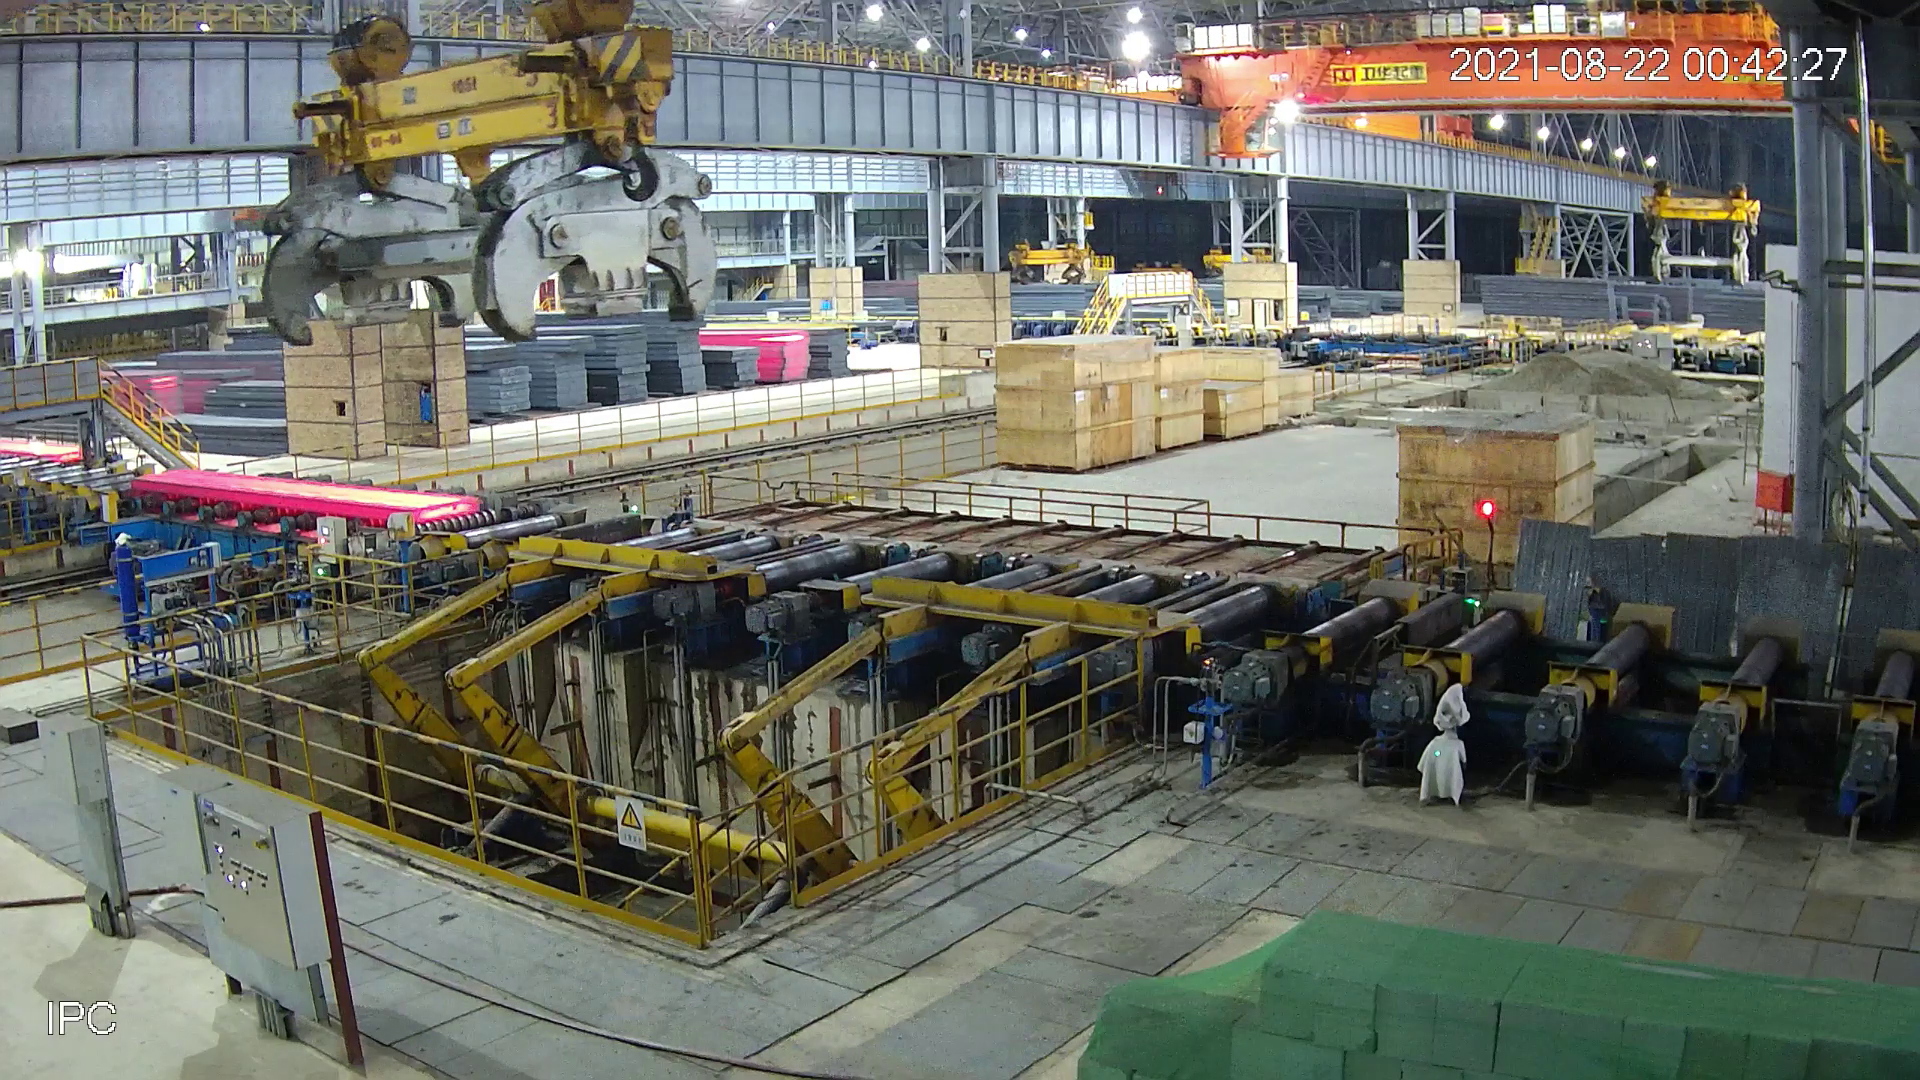crane: (258, 1, 724, 357)
slab: (129, 465, 485, 529)
